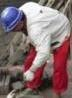gloves: (23, 69, 35, 81), (6, 88, 17, 98)
hard-hat: (0, 6, 22, 33)
